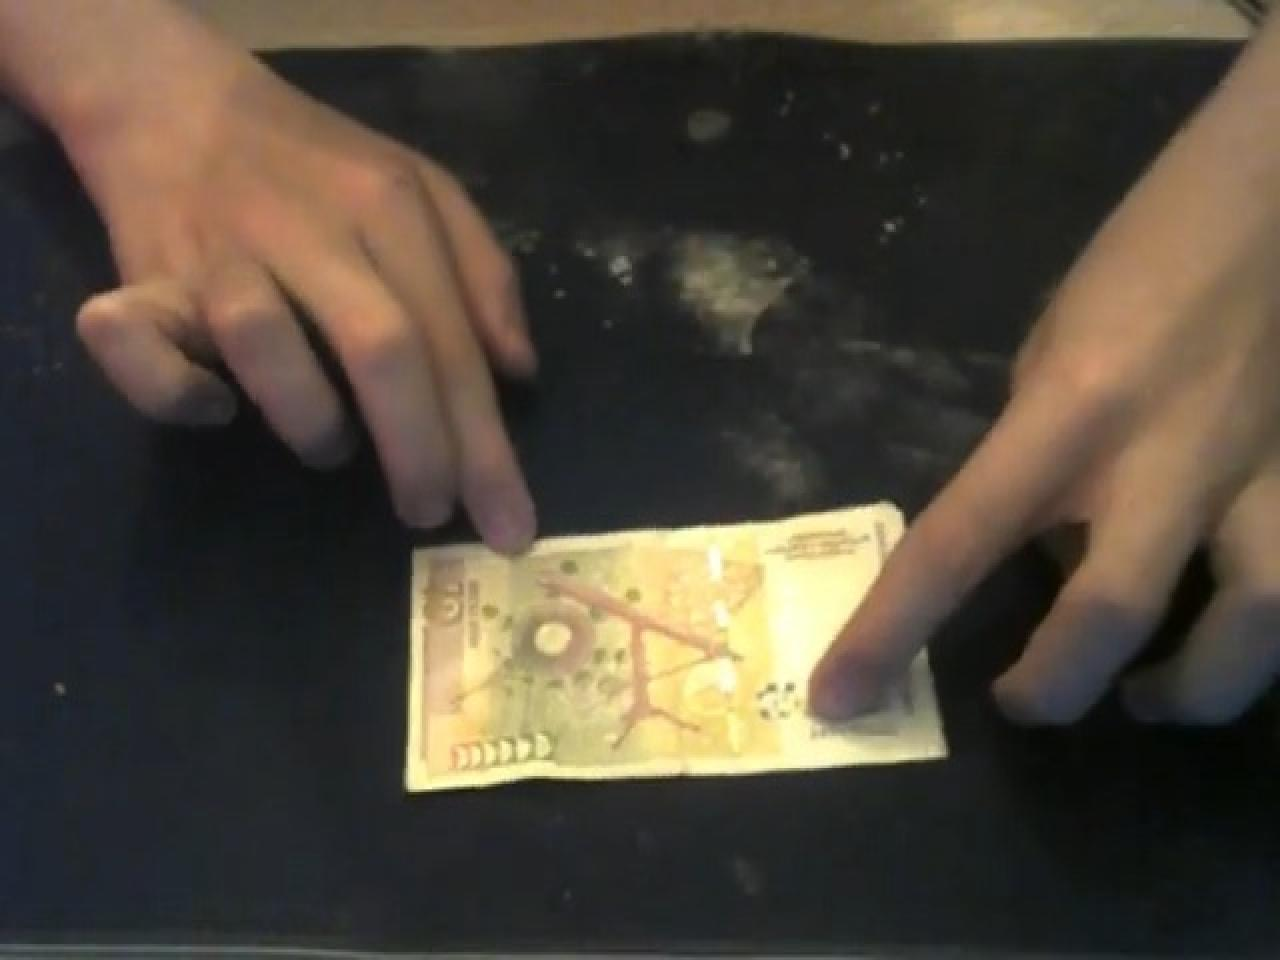10leva: (402, 504, 948, 798)
